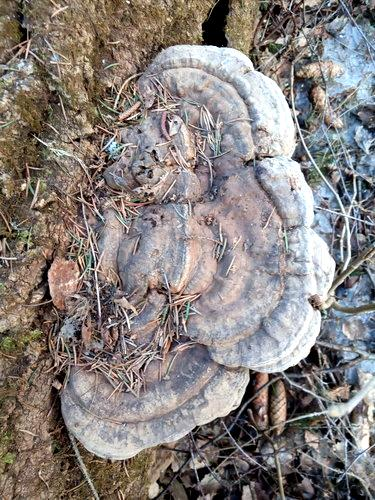Ganoderma - Fruit Body: (64, 42, 331, 462)
